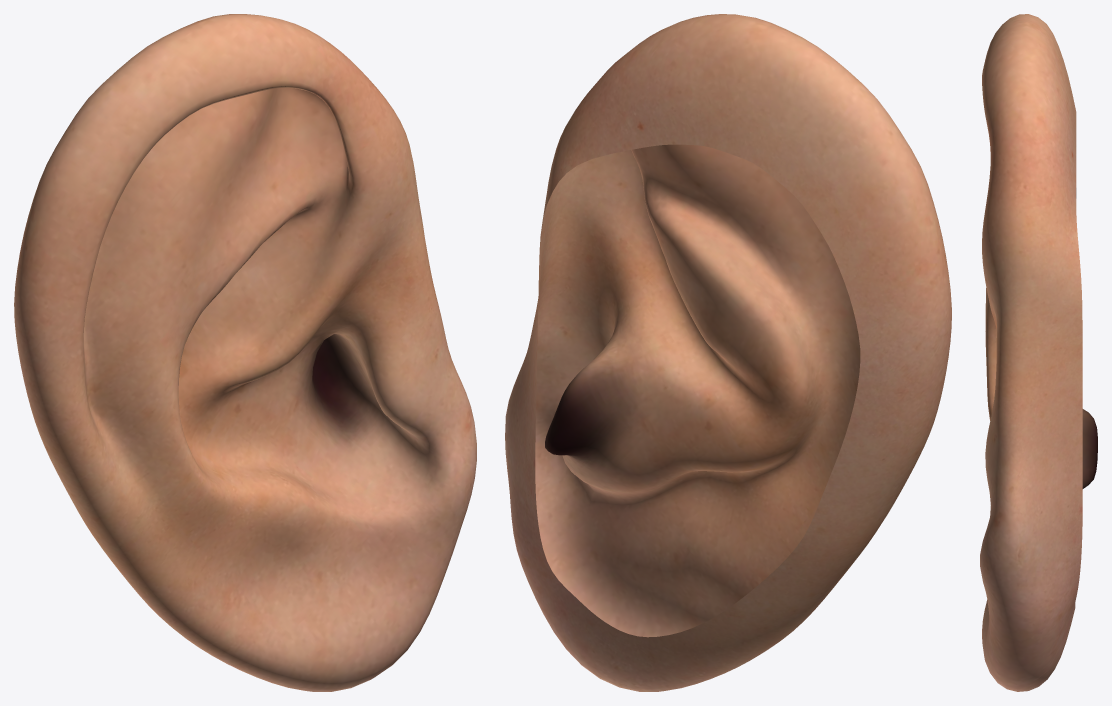
The picture shows the model from 3 angles, left to right: view 1: azimuth 30°, elevation 25°; view 2: azimuth 150°, elevation 25°; view 3: azimuth 270°, elevation 25°; orthographic projection. The views are drawn at different scales.
Visible parts, largest first — view 1: earnewmeshh_2; view 2: earnewmeshh_2; view 3: earnewmeshh_2.
Boxes of the visible parts, bbox=[...] form: earnewmeshh_2: bbox=[14, 14, 476, 691]; earnewmeshh_2: bbox=[505, 14, 951, 691]; earnewmeshh_2: bbox=[980, 14, 1097, 691].
Bounding box in the file's own units: 2.53 × 3.75 × 0.6623.
Materials: 1 (1 with a texture image).
